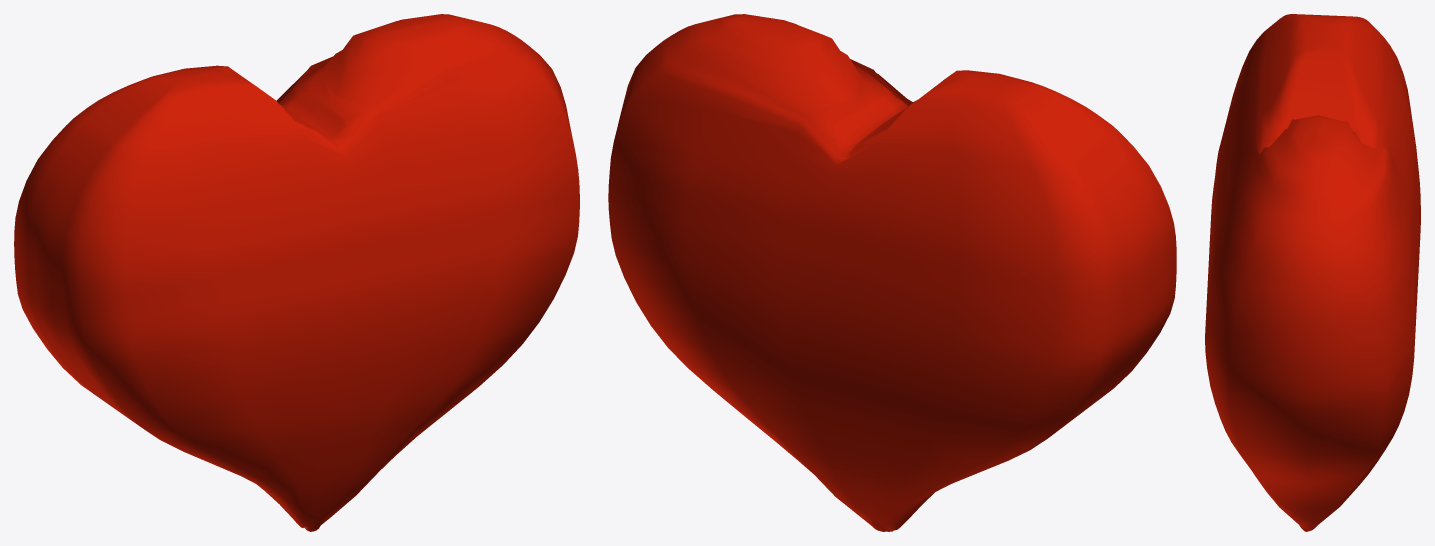
File: heart.FBX
The picture shows the model from 3 angles, left to right: view 1: azimuth 30°, elevation 25°; view 2: azimuth 150°, elevation 25°; view 3: azimuth 270°, elevation 25°; orthographic projection. The views are drawn at different scales.
Visible parts, largest first — view 1: Box01; view 2: Box01; view 3: Box01.
Part boxes in pixels (x1,y1,x2,y2): Box01: (14, 14, 579, 531); Box01: (608, 14, 1176, 531); Box01: (1205, 14, 1420, 531).
Bounding box in the file's own units: 93.52 × 81.29 × 35.5.
